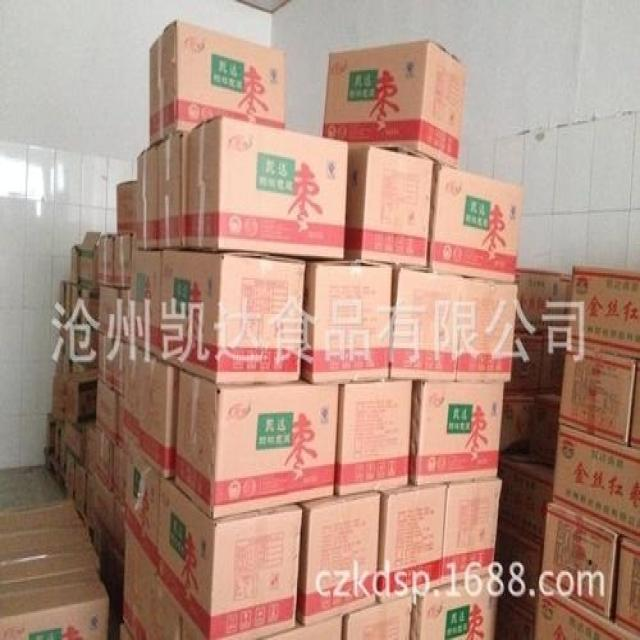box: (175, 370, 339, 521), (156, 474, 303, 640), (182, 116, 348, 259), (160, 251, 303, 386), (321, 39, 467, 169), (150, 20, 285, 145), (300, 261, 393, 384), (429, 162, 522, 283), (296, 493, 380, 625), (552, 423, 640, 543), (346, 145, 433, 266), (411, 382, 504, 486), (334, 381, 413, 498), (540, 503, 616, 621), (376, 486, 447, 604), (389, 268, 462, 381), (0, 568, 111, 640), (558, 345, 636, 445), (124, 343, 178, 478), (567, 265, 640, 358), (123, 531, 182, 640), (0, 524, 100, 587), (457, 278, 518, 381), (532, 582, 640, 640), (442, 478, 500, 585), (411, 573, 498, 640), (499, 457, 554, 546), (125, 444, 160, 582), (128, 249, 160, 362), (0, 498, 88, 536), (506, 333, 556, 396), (157, 137, 184, 249), (515, 270, 561, 335), (343, 597, 412, 640), (612, 536, 640, 637), (500, 396, 540, 459), (133, 143, 157, 247), (91, 430, 114, 495), (96, 283, 119, 343), (95, 379, 116, 444), (115, 179, 137, 236), (111, 439, 128, 510), (113, 237, 132, 288), (96, 333, 113, 389), (96, 234, 113, 287), (116, 288, 131, 343), (113, 341, 124, 394)
